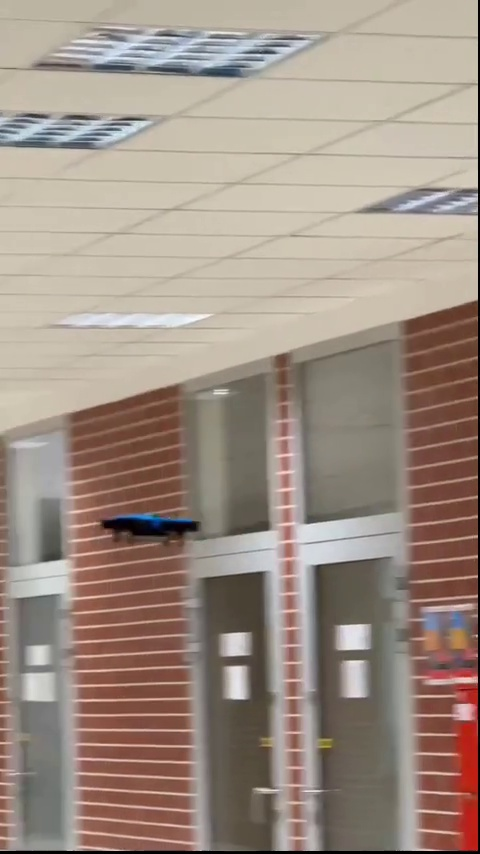drone: (104, 514, 208, 554)
